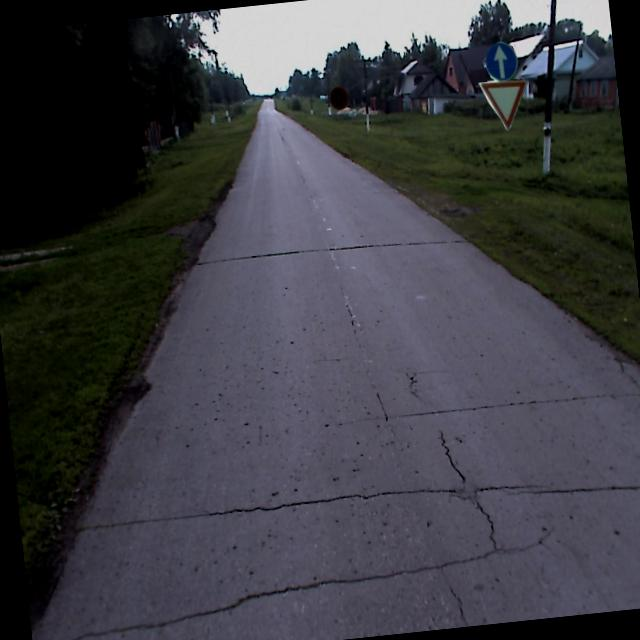road: (31, 97, 640, 640)
